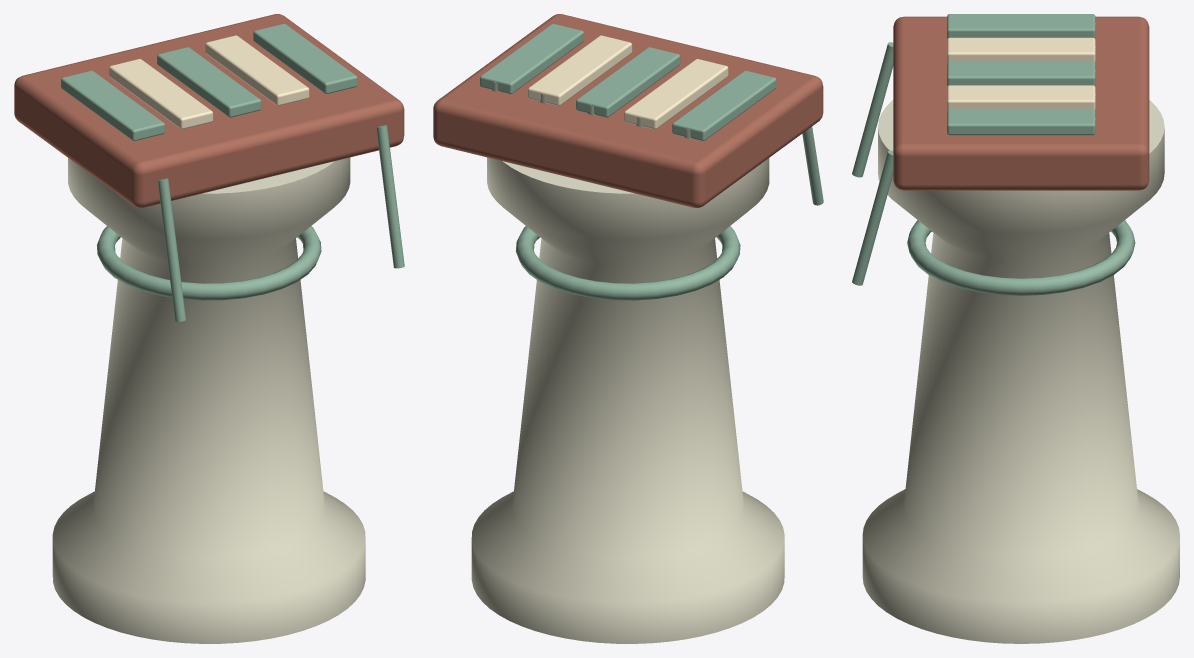
The model's file is enchanted-harp-garden-and-music-sanctuary-resonance-pu-5c142a4a__30432.glb.
The picture shows the model from 3 angles, left to right: view 1: azimuth 30°, elevation 25°; view 2: azimuth 150°, elevation 25°; view 3: azimuth 270°, elevation 25°; orthographic projection.
Parts seen in each view (by area): view 1: resonance-puzzle-pedestal; view 2: resonance-puzzle-pedestal; view 3: resonance-puzzle-pedestal.
Part boxes in pixels (x1,y1,x2,y2): resonance-puzzle-pedestal: (14,14,404,643); resonance-puzzle-pedestal: (433,14,823,643); resonance-puzzle-pedestal: (852,14,1179,643).
Bounding box in the file's own units: 0.62 × 1.09 × 0.6406.
